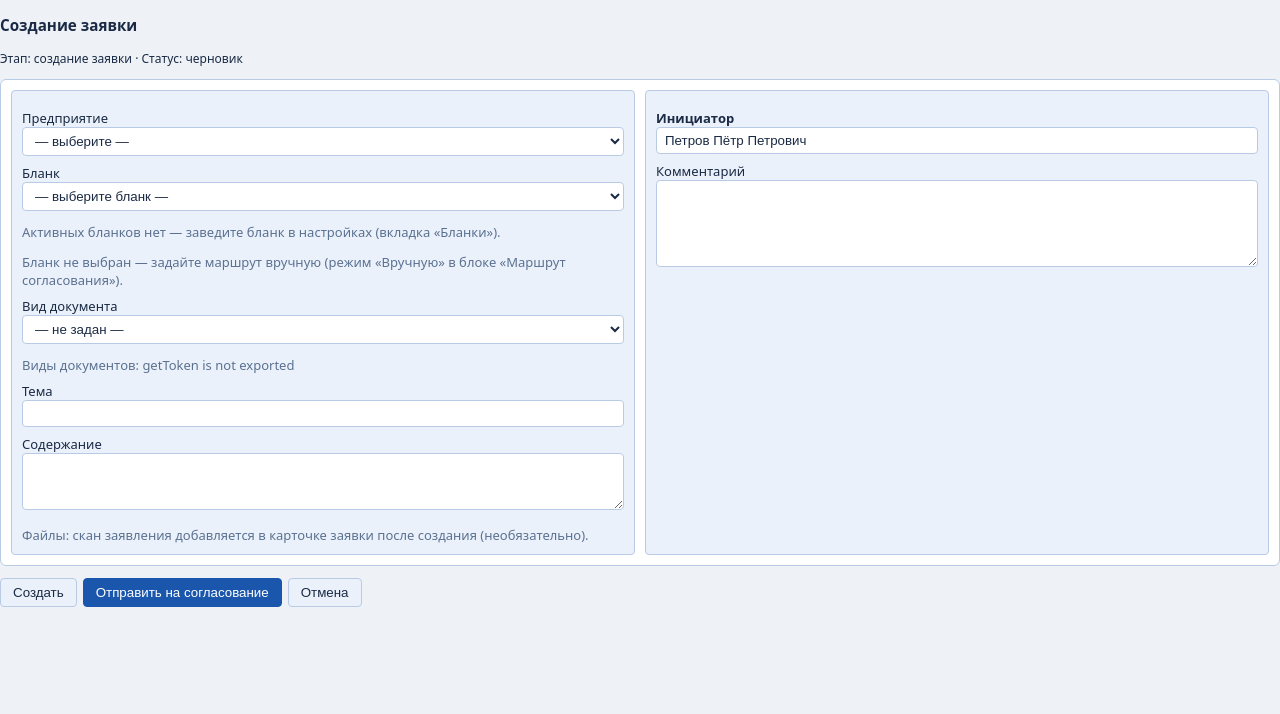
Test: CreateForm › живой поиск: список кандидатов 1С, клик заполняет справочные поля и открывает маршрут
Select "Предприятие «Пример-1» (вымышленное)" in the dropdown labelled "Предприятие" at (323, 142), box [22,127,624,156]
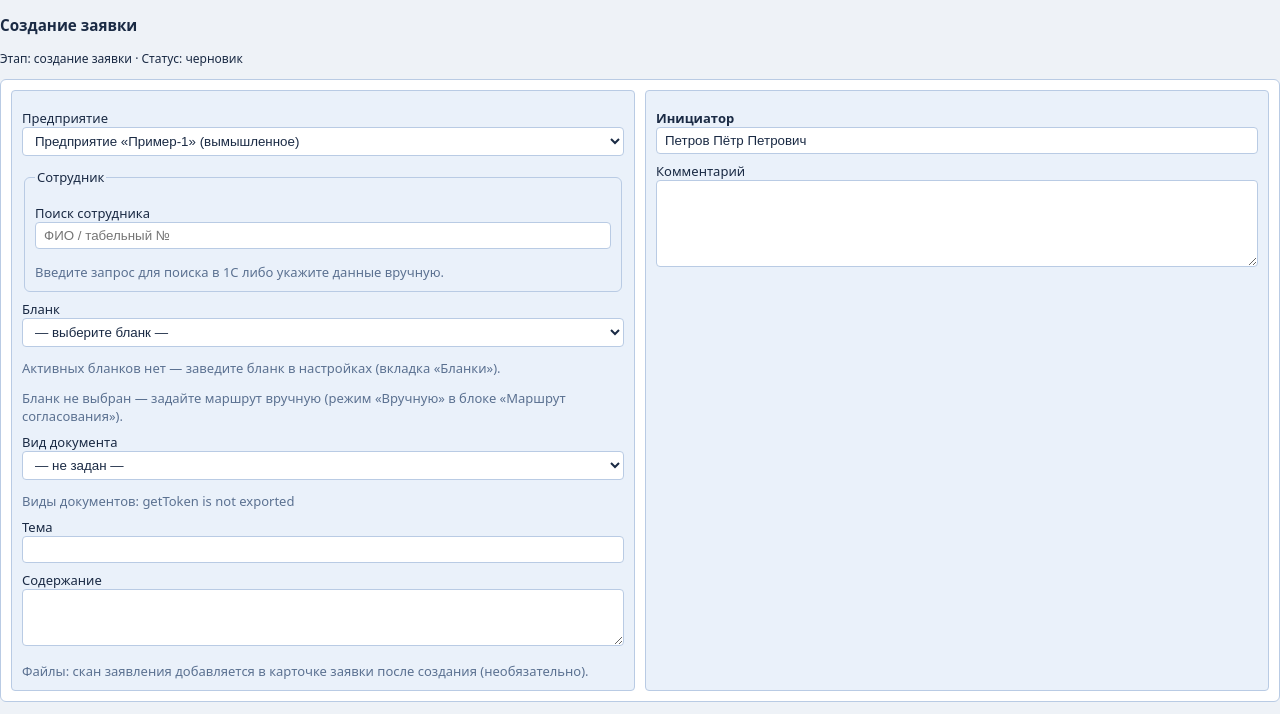
Type "Громов" into the field labelled "Поиск сотрудника" at (323, 236), box [35,222,611,249]
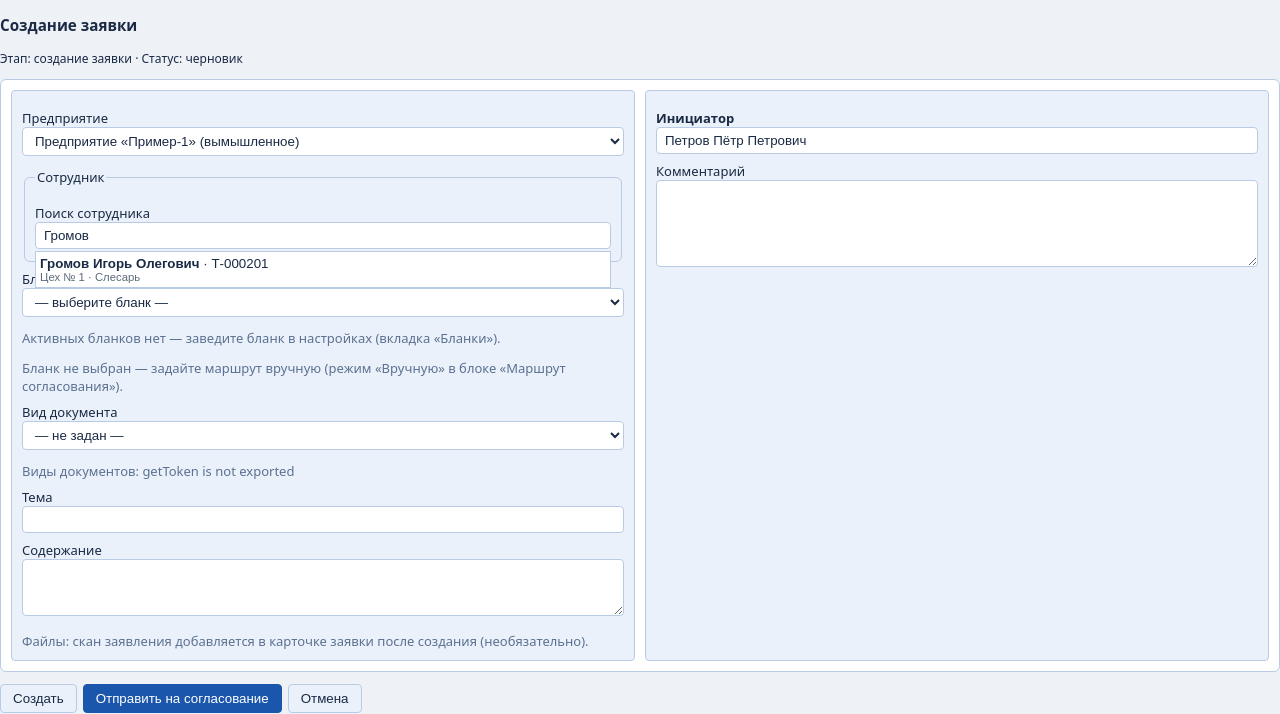
Expected: the text "Громов Игорь Олегович" is shown
Click the text "Громов Игорь Олегович" at (120, 264), box [40,256,200,271]
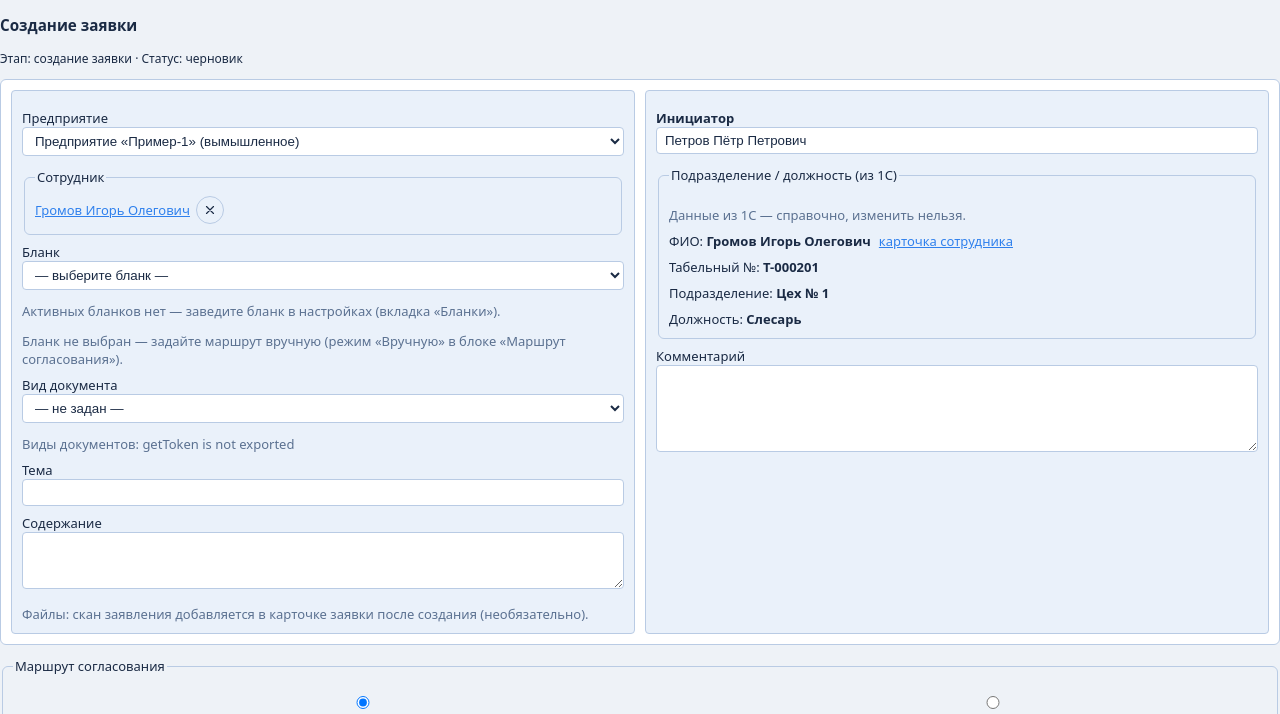
Expected: the text "Маршрут согласования" is shown, [13,657,167,675]
